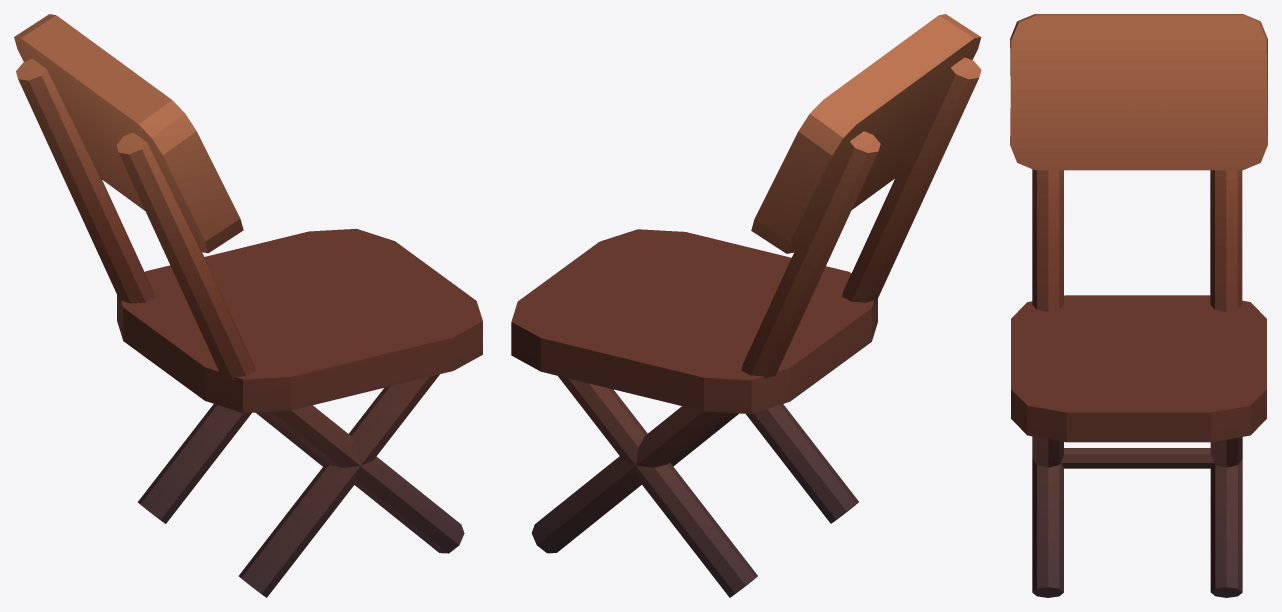
The model's file is chair.fbx.
3 views of the same model, side by side, from view 1: azimuth 30°, elevation 25°; view 2: azimuth 150°, elevation 25°; view 3: azimuth 270°, elevation 25° (orthographic). The views are drawn at different scales.
Visible parts, largest first — view 1: chair; view 2: chair; view 3: chair.
Boxes of the visible parts, x1=… form: chair: x1=14, y1=14, x2=482, y2=597; chair: x1=511, y1=14, x2=981, y2=597; chair: x1=1010, y1=14, x2=1267, y2=597.
Bounding box in the file's own units: 0.4609 × 0.6269 × 0.3155.
